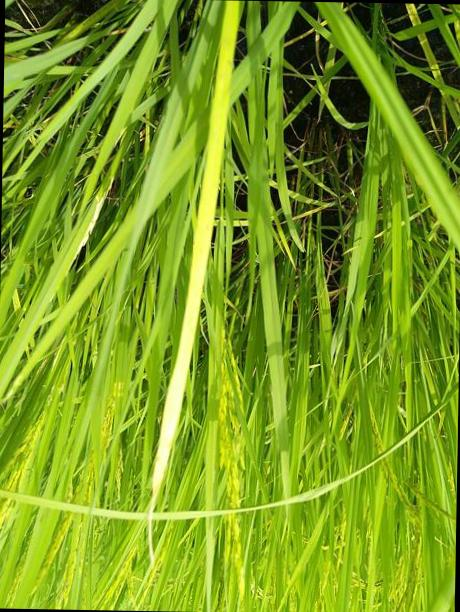Leaf Blight: (152, 49, 232, 492)
